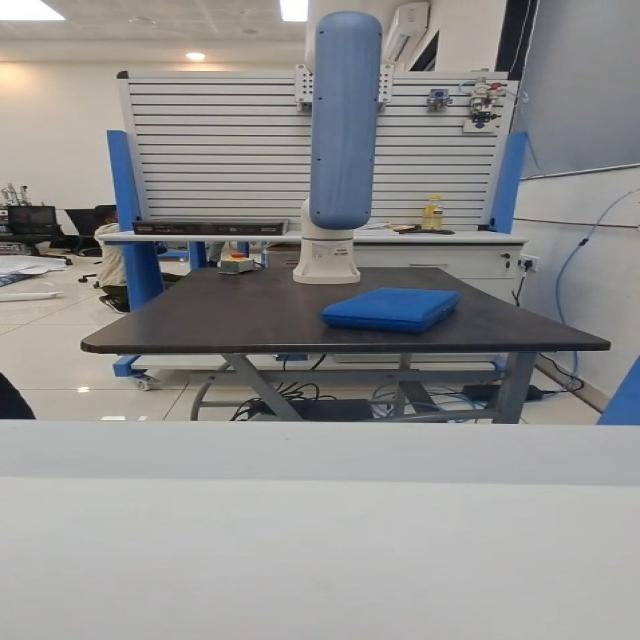top-surface: (353, 289, 436, 308)
